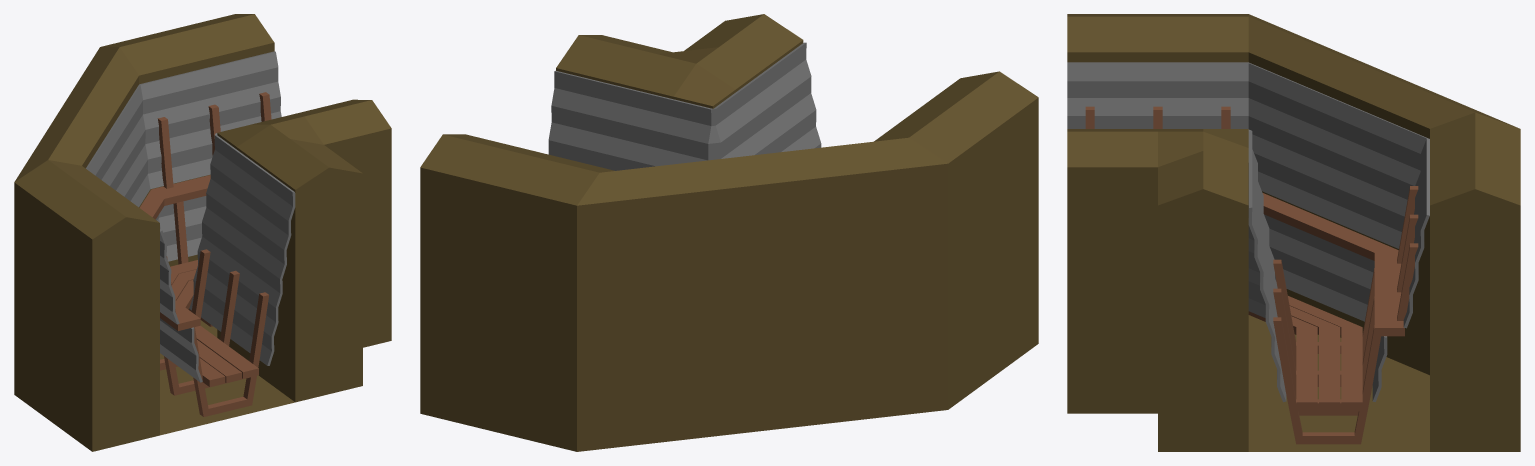
The model's file is Trench Corner Alt.fbx.
3 renders of one model, left to right at view 1: azimuth 30°, elevation 25°; view 2: azimuth 150°, elevation 25°; view 3: azimuth 270°, elevation 25°, orthographic. The views are drawn at different scales.
Visible parts, largest first — view 1: Trench Dirt Corner Alt, Trench Corner Alt; view 2: Trench Dirt Corner Alt, Trench Corner Alt; view 3: Trench Dirt Corner Alt, Trench Corner Alt.
Part boxes in pixels (box(x1,y1,x2,y2)): Trench Dirt Corner Alt: box(14, 14, 391, 451); Trench Corner Alt: box(86, 51, 295, 416); Trench Dirt Corner Alt: box(420, 14, 1038, 451); Trench Corner Alt: box(548, 42, 821, 170); Trench Dirt Corner Alt: box(1067, 14, 1520, 451); Trench Corner Alt: box(1067, 62, 1429, 444).
Size of the model in its own units: 2500 by 1600 by 2500.
